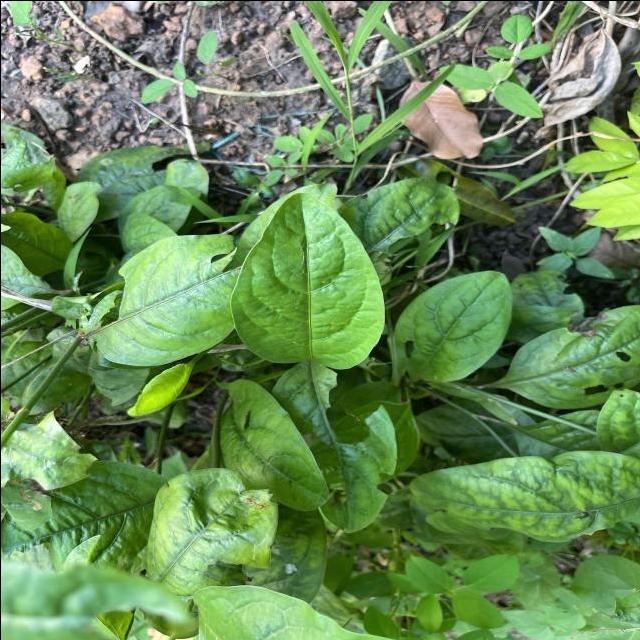Plumbago indica: (223, 189, 393, 376), (400, 446, 640, 554), (382, 266, 520, 386)
